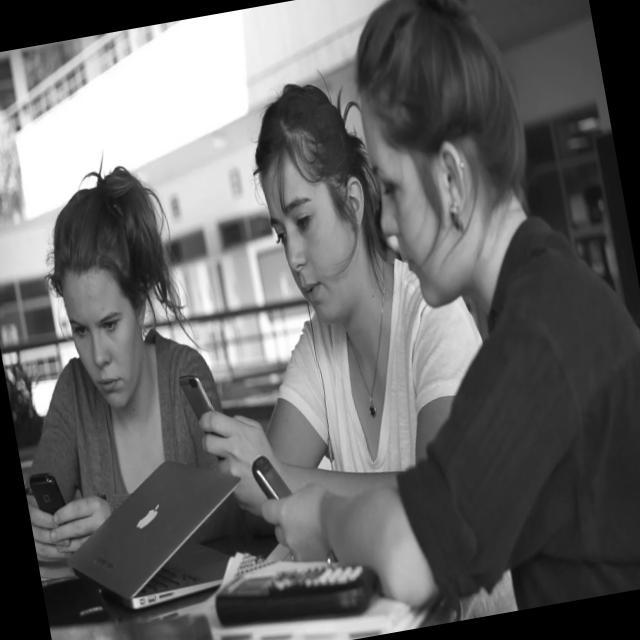phone: (178, 371, 219, 436), (250, 450, 294, 505), (28, 470, 68, 520)
